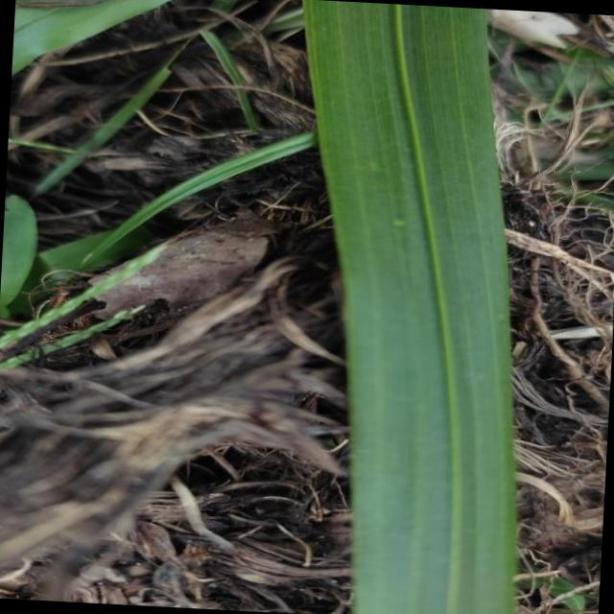Healthy: (304, 0, 516, 614)
